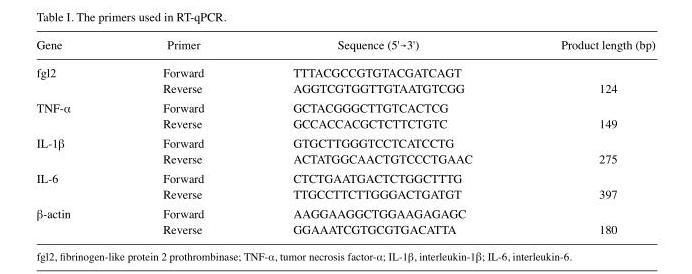table: (35, 35, 654, 236)
table column: (247, 35, 516, 236), (516, 35, 654, 236), (116, 35, 247, 236), (35, 35, 116, 236)
table column header: (35, 35, 654, 59)
table row: (35, 35, 654, 59), (35, 59, 654, 81), (35, 98, 654, 116), (35, 133, 654, 151), (35, 151, 654, 169), (35, 186, 654, 204), (35, 204, 654, 222), (35, 81, 654, 98), (35, 116, 654, 133), (35, 169, 654, 186), (35, 222, 654, 236)
table spanning cell: (35, 59, 116, 98), (35, 133, 116, 169), (35, 98, 116, 133), (35, 169, 116, 204), (35, 204, 116, 236)
